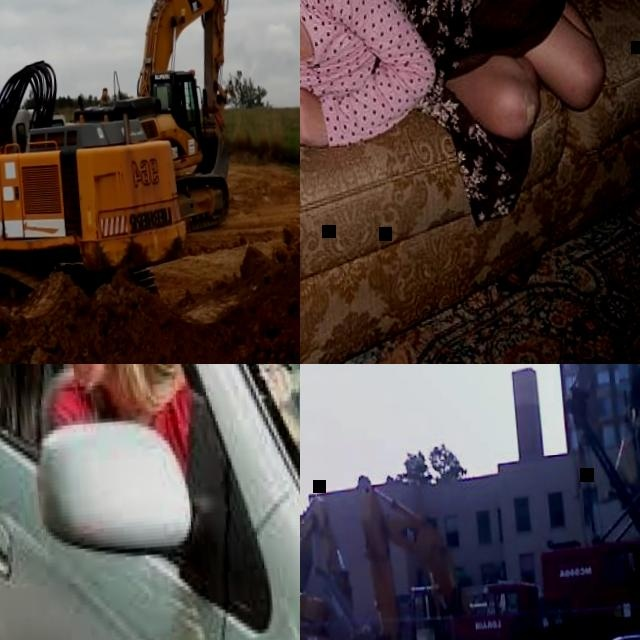NO-Mask: (68, 364, 113, 389)
NO-Safety Vest: (300, 0, 401, 101)
Person: (300, 0, 612, 198), (34, 364, 299, 478), (171, 84, 193, 139)
machinery: (0, 0, 193, 364), (61, 0, 246, 241), (350, 466, 488, 640), (300, 491, 357, 640)
vehicle: (0, 364, 300, 640)
